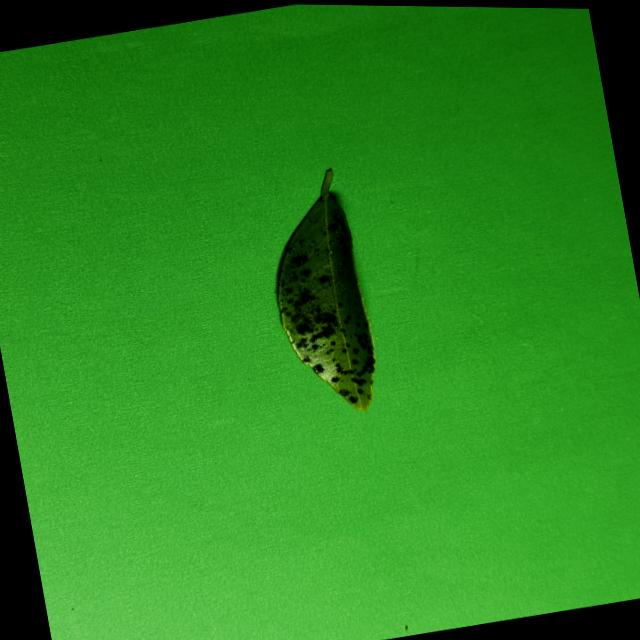sooty_mold: (278, 169, 375, 410)
